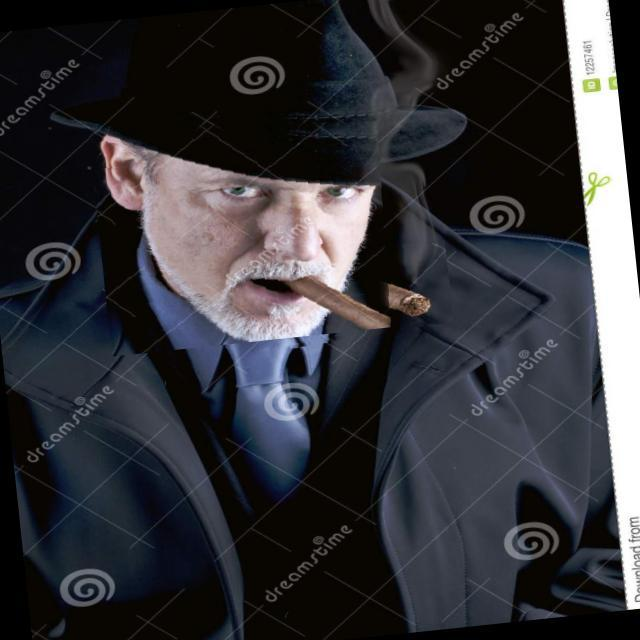cigarette: (275, 239, 454, 349)
